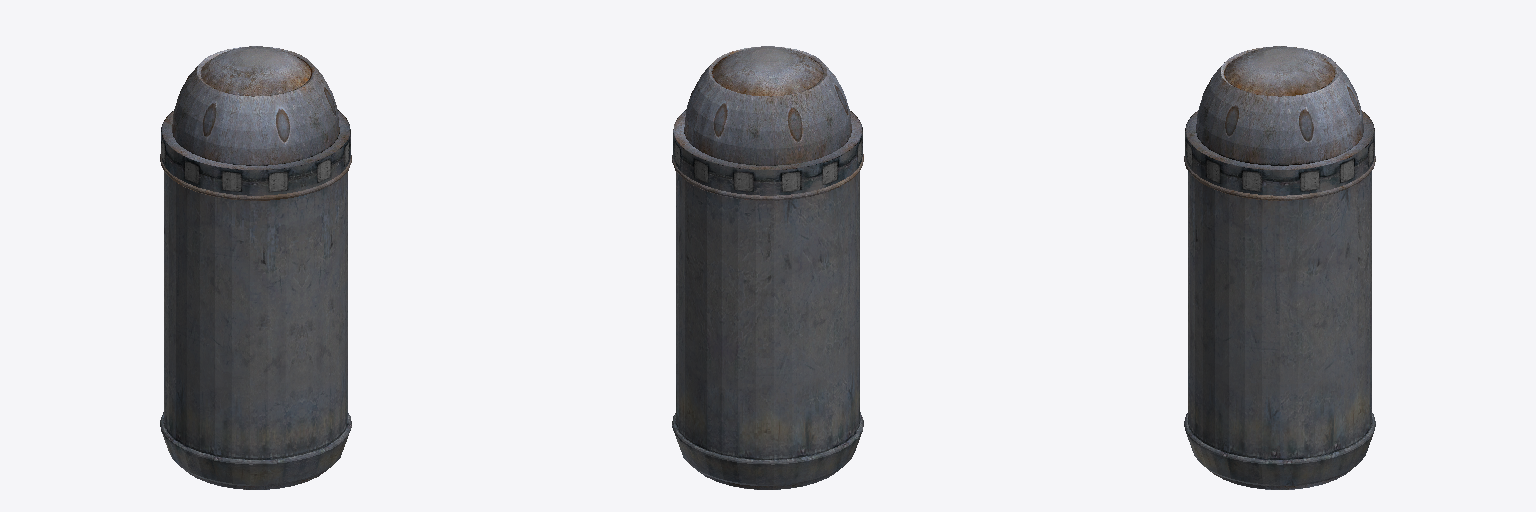
The picture shows the model from 3 angles: view 1: azimuth 30°, elevation 25°; view 2: azimuth 150°, elevation 25°; view 3: azimuth 270°, elevation 25°; orthographic projection.
Visible parts, largest first — view 1: Mesh; view 2: Mesh; view 3: Mesh.
Part boxes in pixels (x1,y1,x2,y2): Mesh: (160, 46, 351, 489); Mesh: (672, 46, 863, 489); Mesh: (1184, 46, 1375, 489).
Bounding box in the file's own units: 2.09 × 4.84 × 2.09.
1 materials, 1 textured.